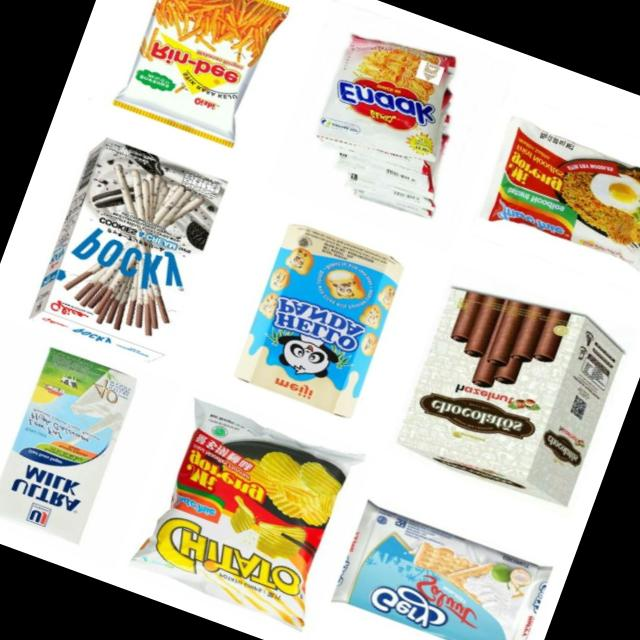KemasanPlastik: (122, 388, 373, 639), (286, 13, 504, 234), (324, 492, 566, 640), (104, 0, 307, 165), (477, 112, 640, 288)
